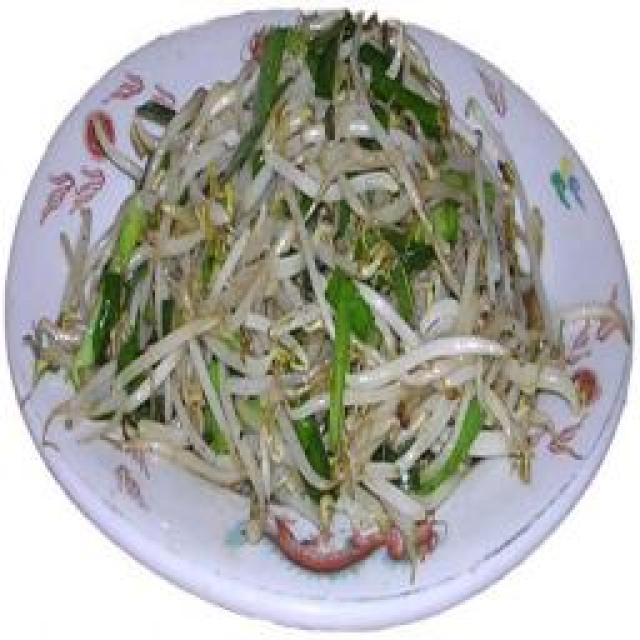Wet Waste: (152, 82, 490, 472)
